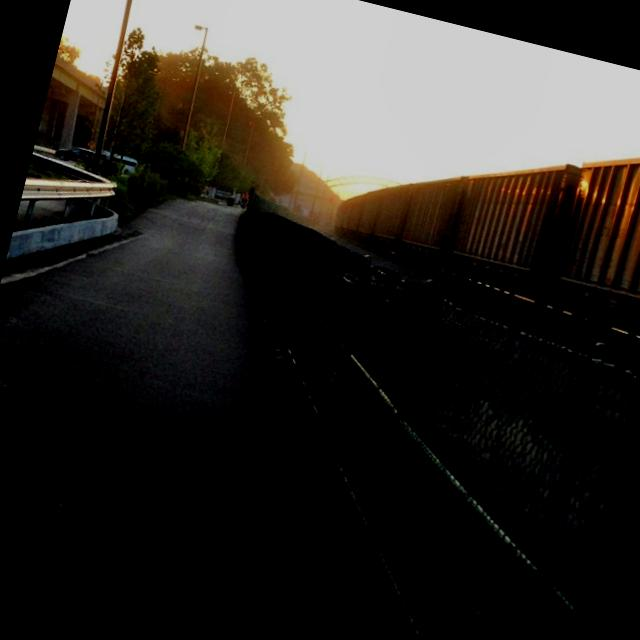Vehicle: (53, 140, 96, 168)
